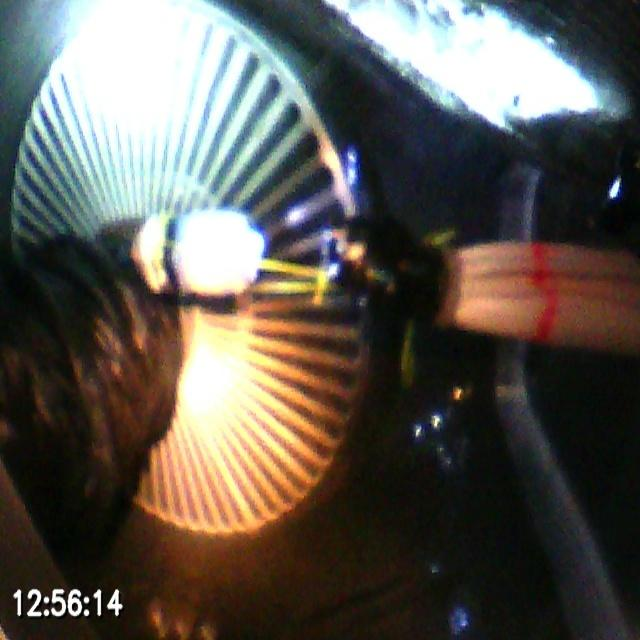head: (130, 211, 265, 299)
